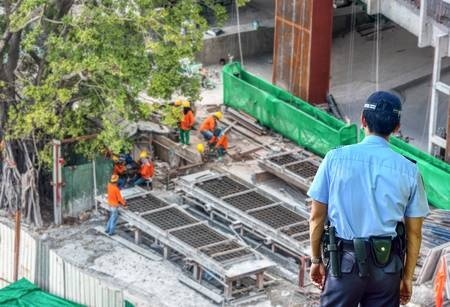blue: (361, 90, 402, 137)
yellow: (212, 110, 223, 122), (139, 150, 148, 161), (110, 174, 119, 184), (181, 100, 190, 109)
